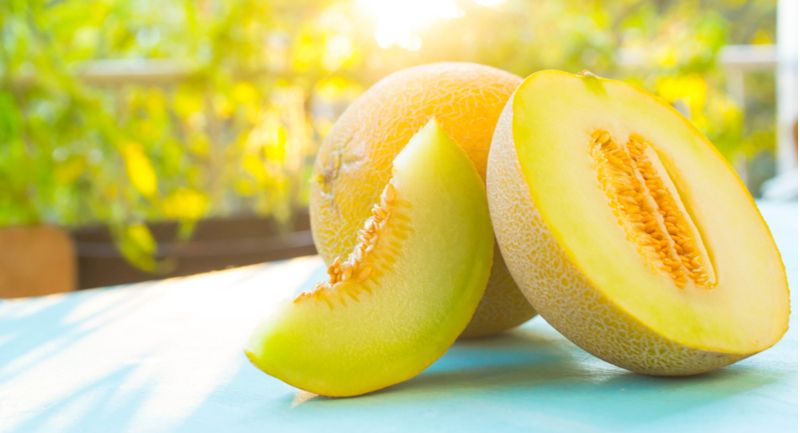Melon: (487, 70, 794, 382)
